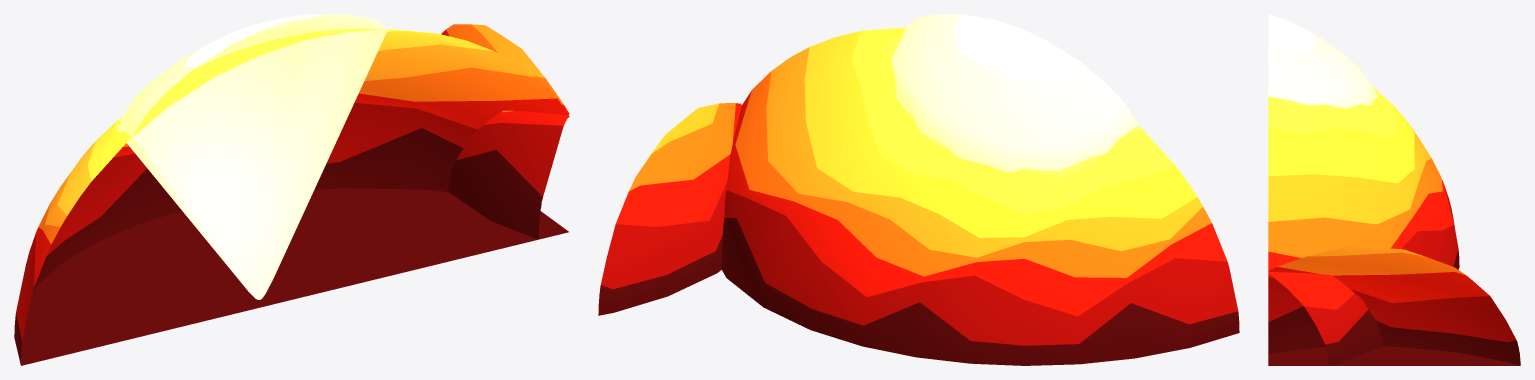
The model's file is shot_charge_b186.glb.
The picture shows the model from 3 angles, left to right: view 1: azimuth 30°, elevation 25°; view 2: azimuth 150°, elevation 25°; view 3: azimuth 270°, elevation 25°; orthographic projection. The views are drawn at different scales.
Parts seen in each view (by area): view 1: charge_twin3_b_fire_shot_charge_b186, charge_twin3_b_core_shot_charge_b186, charge_twin3_a_fire_shot_charge_b186; view 2: charge_twin3_b_fire_shot_charge_b186, charge_twin3_b_core_shot_charge_b186, charge_twin3_a_fire_shot_charge_b186; view 3: charge_twin3_b_fire_shot_charge_b186, charge_twin3_a_fire_shot_charge_b186, charge_twin3_b_core_shot_charge_b186.
Boxes of the visible parts, x1,y1,x2,y2 form: charge_twin3_b_fire_shot_charge_b186: [14, 28, 569, 365]; charge_twin3_b_core_shot_charge_b186: [117, 14, 387, 299]; charge_twin3_a_fire_shot_charge_b186: [441, 24, 569, 239]; charge_twin3_b_fire_shot_charge_b186: [721, 27, 1239, 365]; charge_twin3_b_core_shot_charge_b186: [891, 14, 1137, 172]; charge_twin3_a_fire_shot_charge_b186: [598, 103, 741, 315]; charge_twin3_b_fire_shot_charge_b186: [1268, 86, 1459, 365]; charge_twin3_a_fire_shot_charge_b186: [1268, 246, 1520, 365]; charge_twin3_b_core_shot_charge_b186: [1268, 14, 1377, 108].
Size of the model in its own units: 10.65 by 5.17 by 5.28.
